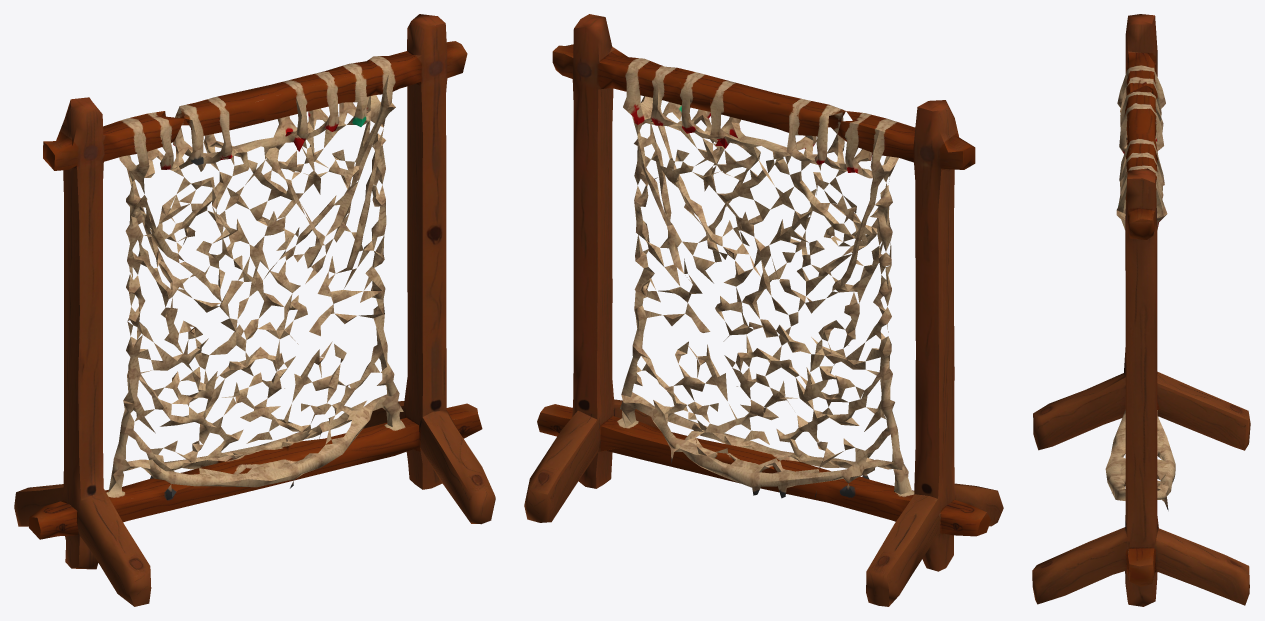
Rendered from fishing_net.glb.
3 views of the same model, side by side, from view 1: azimuth 30°, elevation 25°; view 2: azimuth 150°, elevation 25°; view 3: azimuth 270°, elevation 25° (orthographic). The views are drawn at different scales.
Visible parts, largest first — view 1: world; view 2: world; view 3: world.
Part boxes in pixels (x1,y1,x2,y2): world: (14, 14, 495, 606); world: (524, 14, 1003, 606); world: (1032, 14, 1250, 606).
Size of the model in its own units: 1 by 1 by 0.4604.
Materials: 1 (1 with a texture image).
